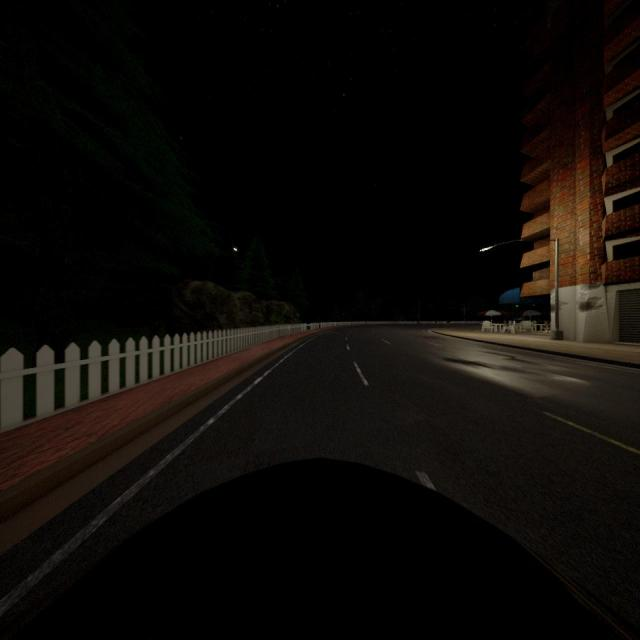Vehicle: (0, 459, 640, 640)
